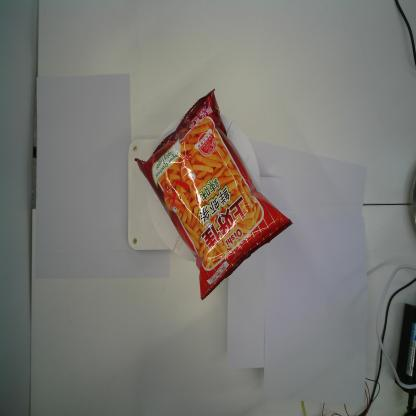Puffed Food: (134, 87, 293, 301)
